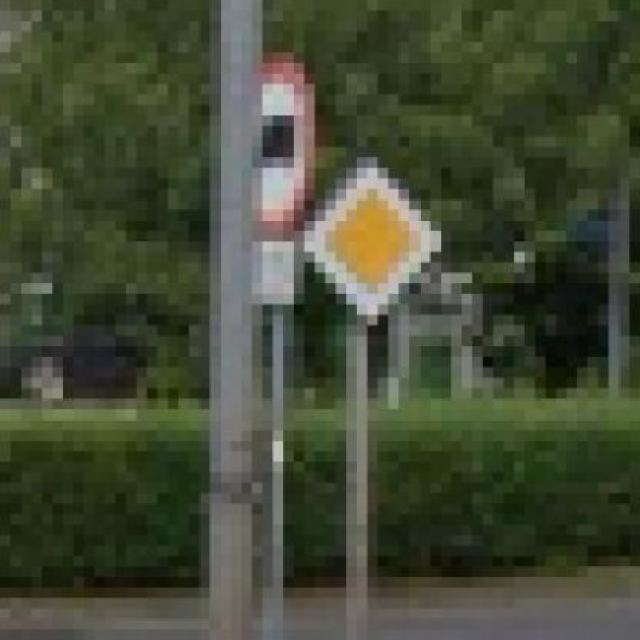Droga z pierwszenstwem: (299, 152, 446, 331)
